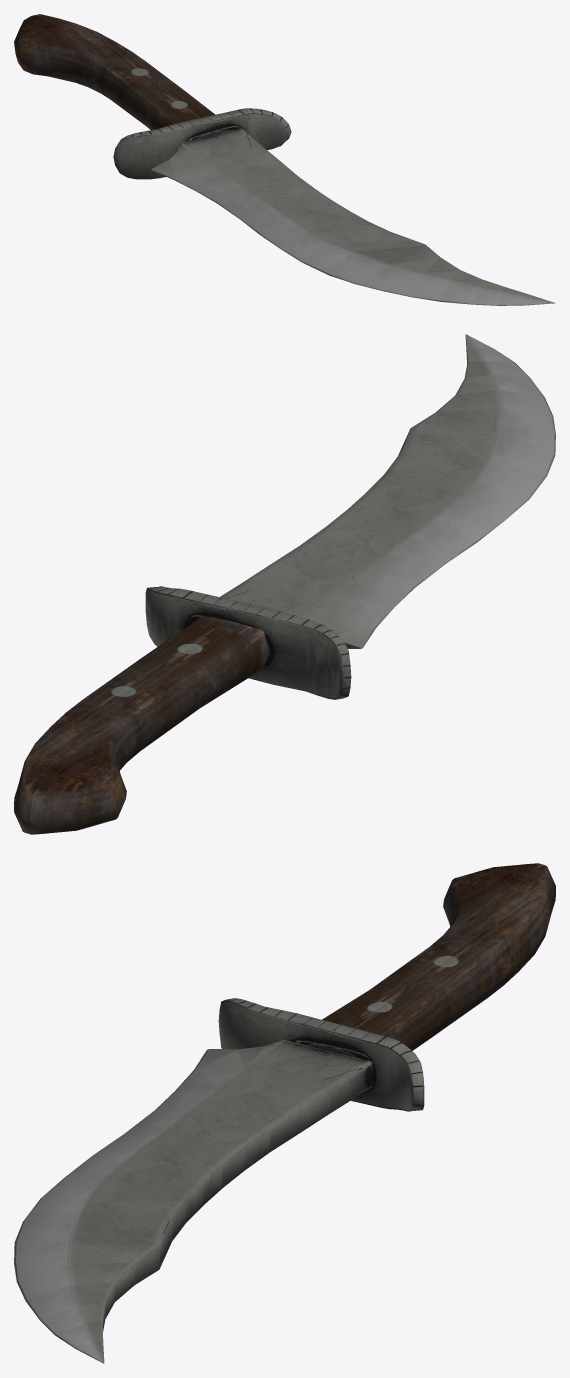
The model's file is greatknife.fbx.
3 views of the same model, one above another, from view 1: azimuth 30°, elevation 25°; view 2: azimuth 150°, elevation 25°; view 3: azimuth 330°, elevation 25° (orthographic). The views are drawn at different scales.
Visible parts, largest first — view 1: WP_A_0118; view 2: WP_A_0118; view 3: WP_A_0118.
Boxes of the visible parts, left/top/right/bottom form: WP_A_0118: left=14, top=14, right=555, bottom=305; WP_A_0118: left=14, top=334, right=555, bottom=834; WP_A_0118: left=14, top=863, right=555, bottom=1363.
Bounding box in the file's own units: 14.3 × 3.45 × 56.35.
1 material, 1 textured.
